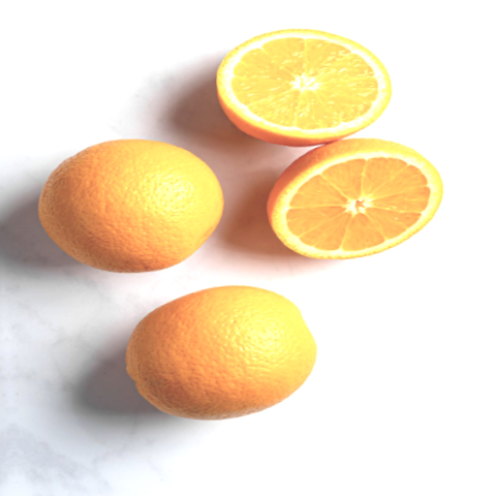orange: (115, 267, 326, 433), (36, 120, 234, 289)
